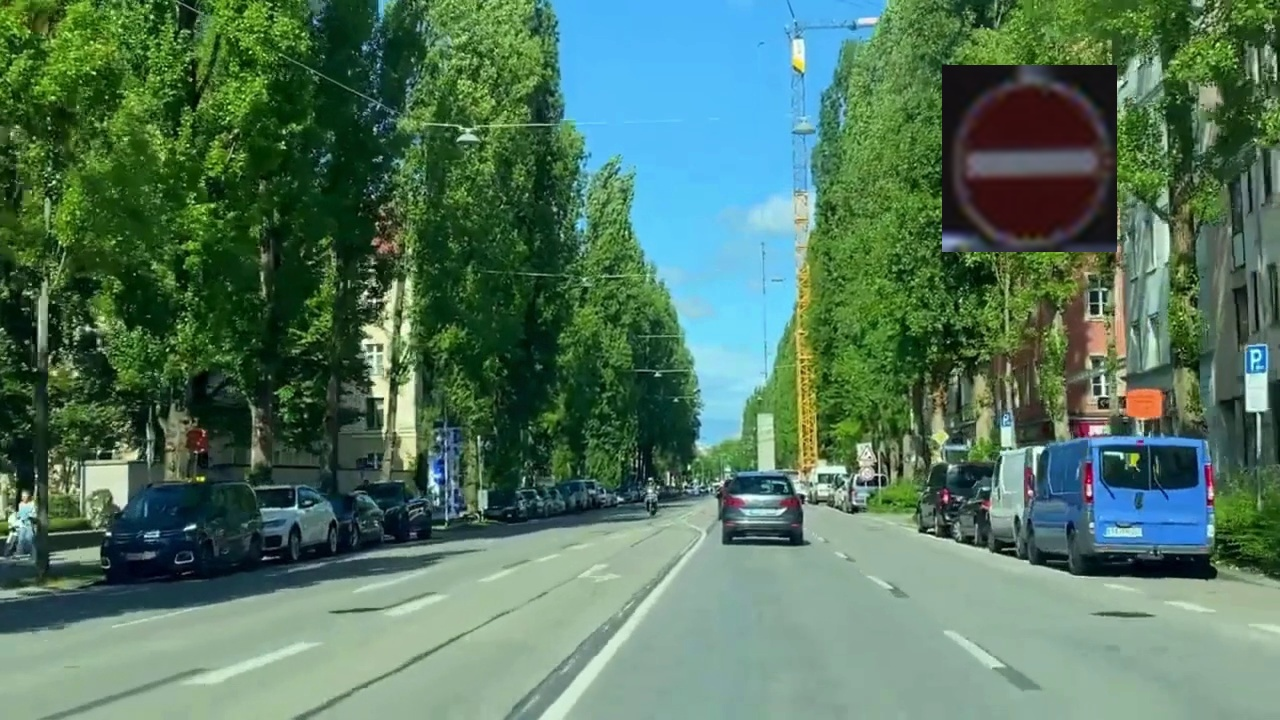No entry: (942, 65, 1117, 252)
